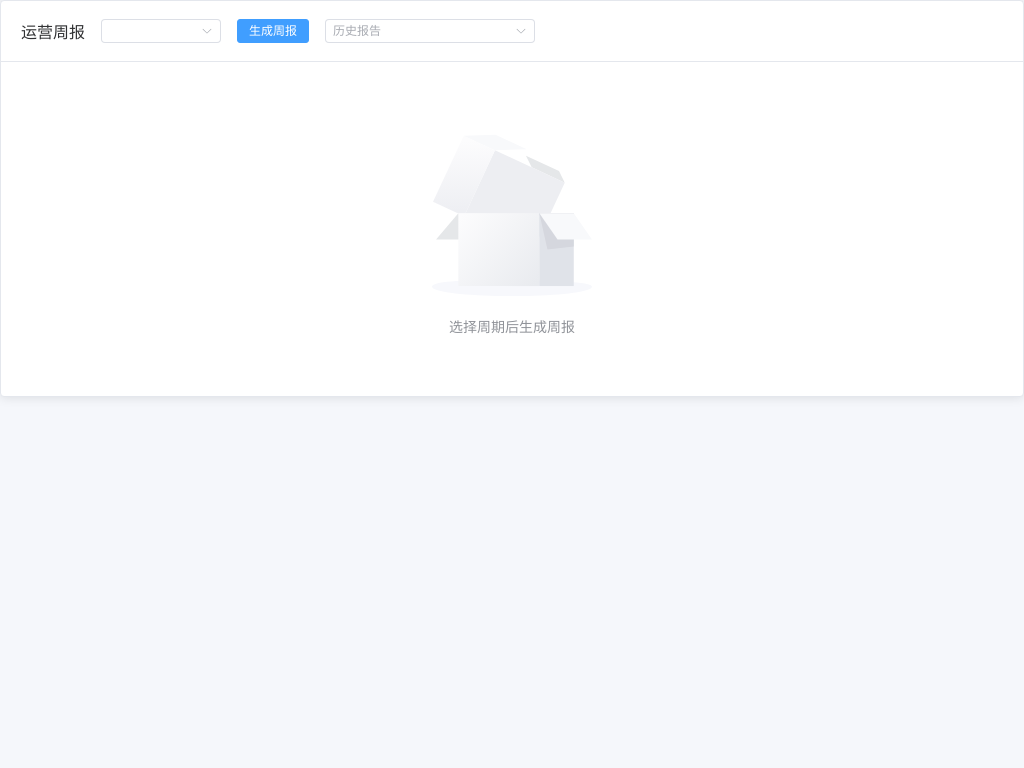
Test: AiReport › 点击生成周报后渲染聚合结果与 LLM 建议
This screenshot has width=1024, height=768.
Click the button "生成周报" at (273,31), box x1=237 y1=19 x2=309 y2=43
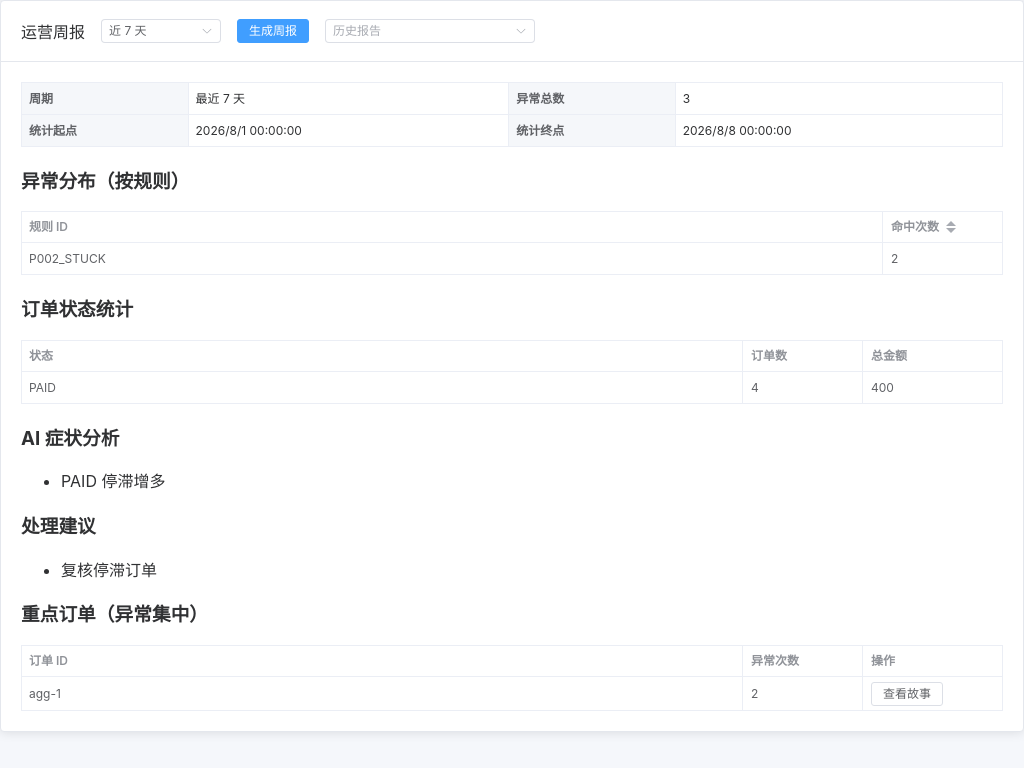
expect the text "P002_STUCK" is shown: met, box x1=29 y1=251 x2=106 y2=266
expect the text "PAID 停滞增多" is shown: met, box x1=61 y1=471 x2=165 y2=491
expect the text "复核停滞订单" is shown: met, box x1=61 y1=560 x2=157 y2=580
